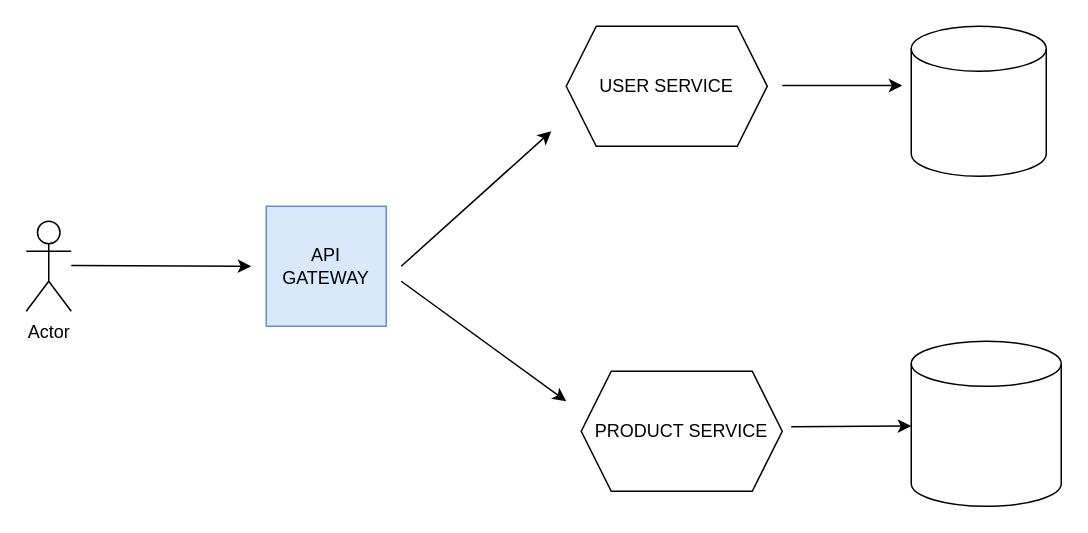
This 1088x533 diagram has some shape labels left out. The centre of each missing label's shape, as x and y in pixels:
"PRODUCT DB" belongs at (x=985, y=423).
"USER DB" belongs at (x=978, y=100).
